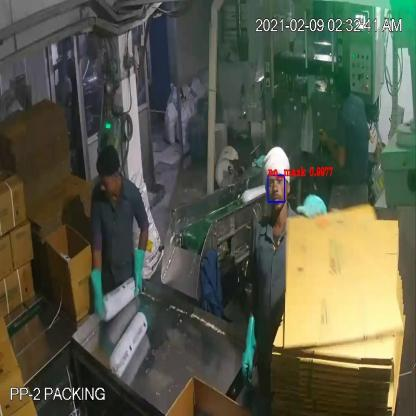glove: (228, 306, 267, 385), (83, 250, 111, 323), (129, 237, 154, 303)
